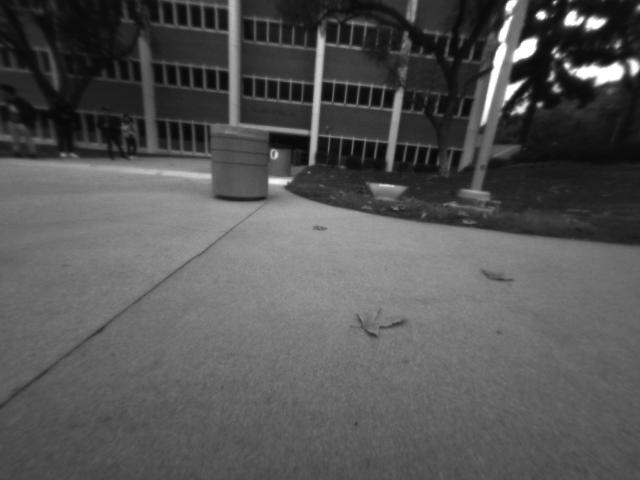trashcan: (202, 116, 269, 205), (270, 141, 293, 182)
